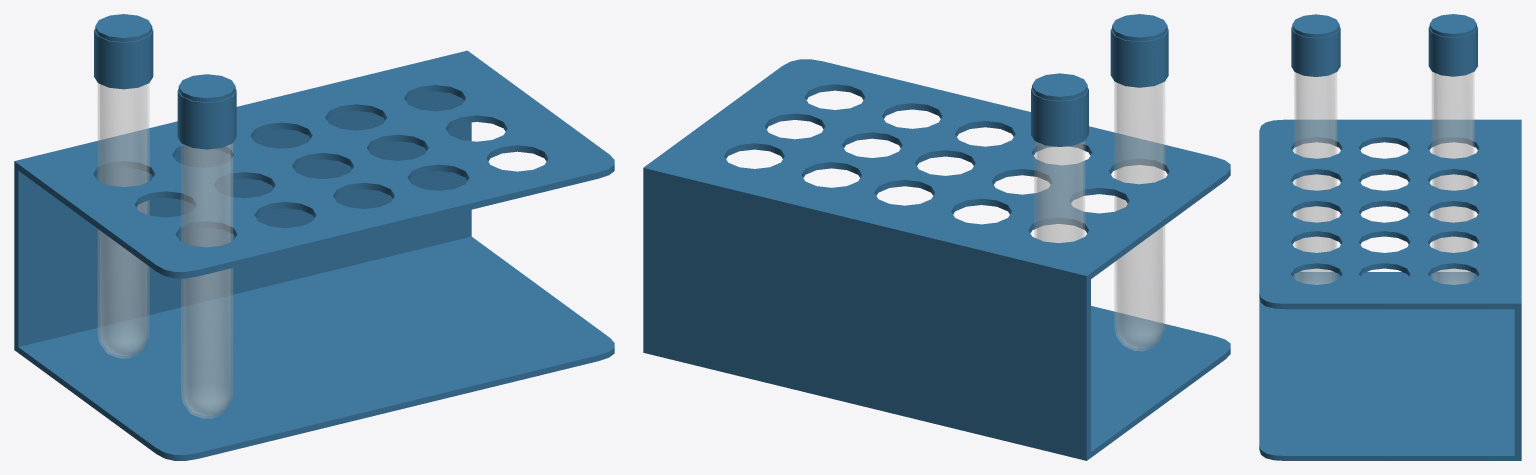
File: SM_分装管架.fbx
The picture shows the model from 3 angles, left to right: view 1: azimuth 30°, elevation 25°; view 2: azimuth 150°, elevation 25°; view 3: azimuth 270°, elevation 25°; orthographic projection. The views are drawn at different scales.
Visible parts, largest first — view 1: SM_分装管架; view 2: SM_分装管架; view 3: SM_分装管架.
Boxes of the visible parts, left/top/right/bottom form: SM_分装管架: left=14, top=14, right=614, bottom=460; SM_分装管架: left=643, top=14, right=1230, bottom=460; SM_分装管架: left=1259, top=14, right=1521, bottom=460.
Bounding box in the file's own units: 81.44 × 57.91 × 49.
